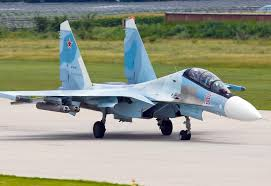maybay_muctieu: (6, 23, 263, 143)
